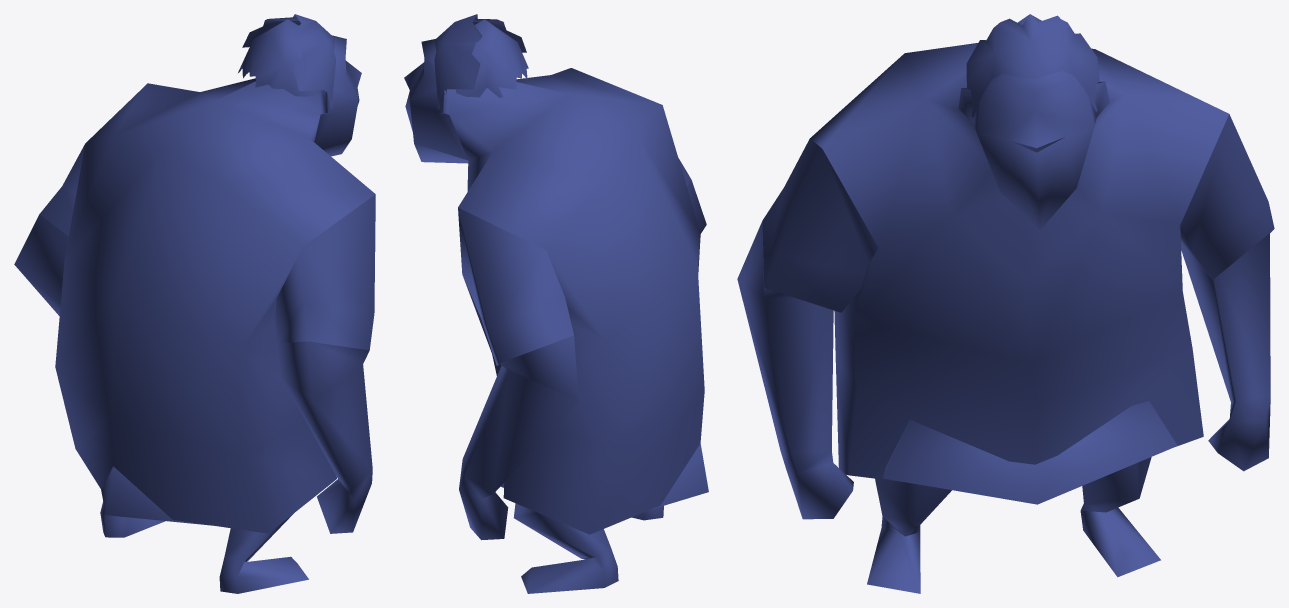
The model's file is cyclops.fbx.
3 views of the same model, side by side, from view 1: azimuth 30°, elevation 25°; view 2: azimuth 150°, elevation 25°; view 3: azimuth 270°, elevation 25° (orthographic). The views are drawn at different scales.
Visible parts, largest first — view 1: Grug; view 2: Grug; view 3: Grug.
Part boxes in pixels (left/top/right/bottom): Grug: left=14, top=14, right=375, bottom=593; Grug: left=404, top=14, right=708, bottom=593; Grug: left=737, top=14, right=1274, bottom=593.
Size of the model in its own units: 88.86 by 155 by 124.
